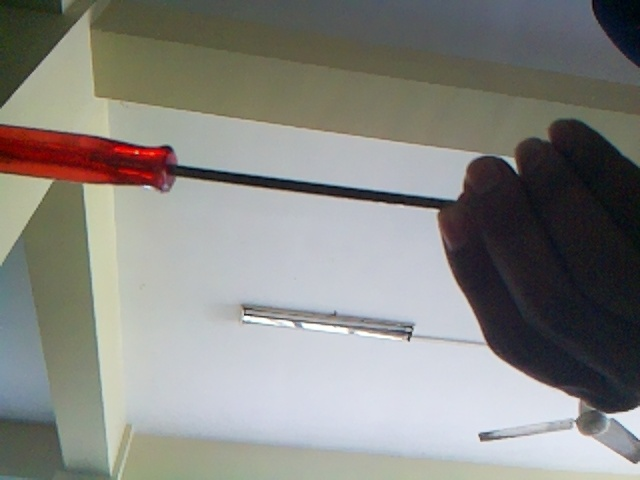redskrew: (1, 126, 457, 198)
